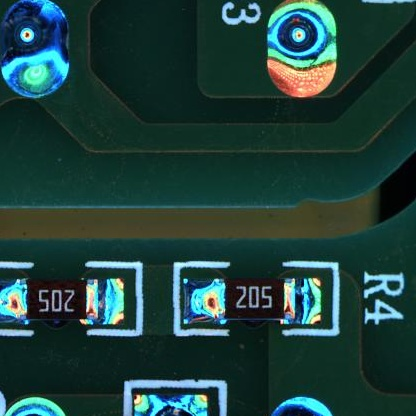spot: (1, 2, 70, 101), (267, 1, 338, 67)
